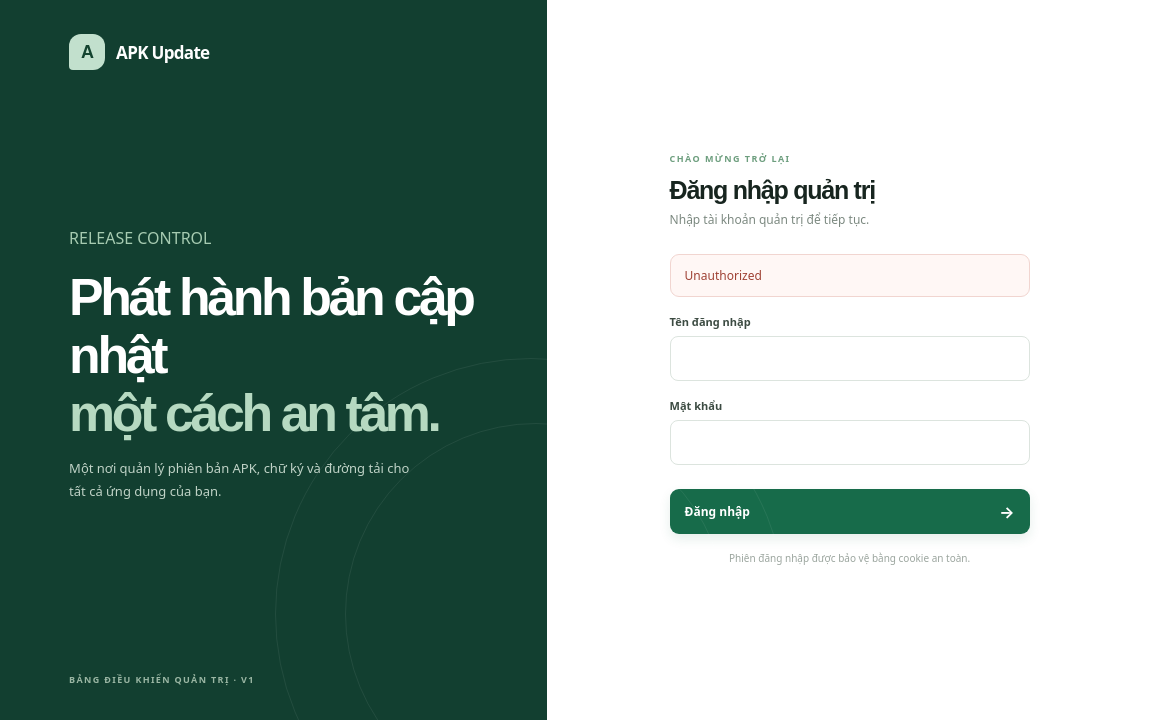
Test: APK administration console › shows a login error without leaving the form
This screenshot has width=1152, height=720.
Step 1. Type "admin" into the field labelled "Tên đăng nhập" → (850, 358), box [670,336,1030,381]
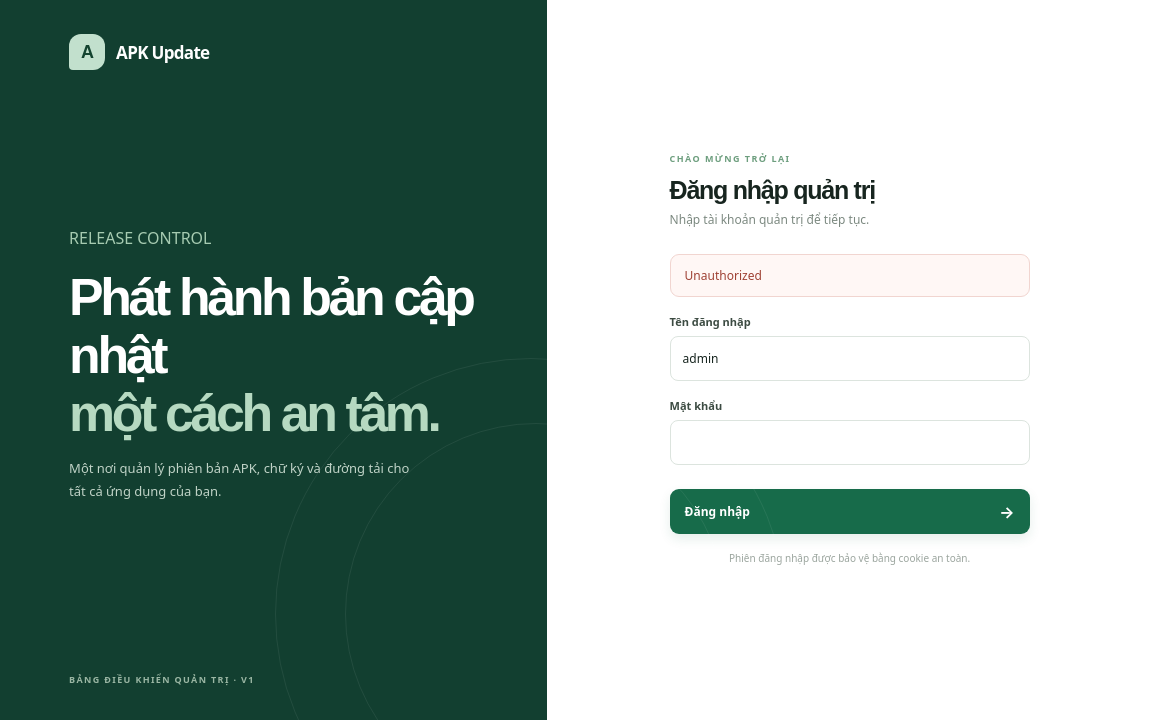
Step 2. Type "wrong-password" into the password field labelled "Mật khẩu" → (850, 442), box [670,420,1030,465]
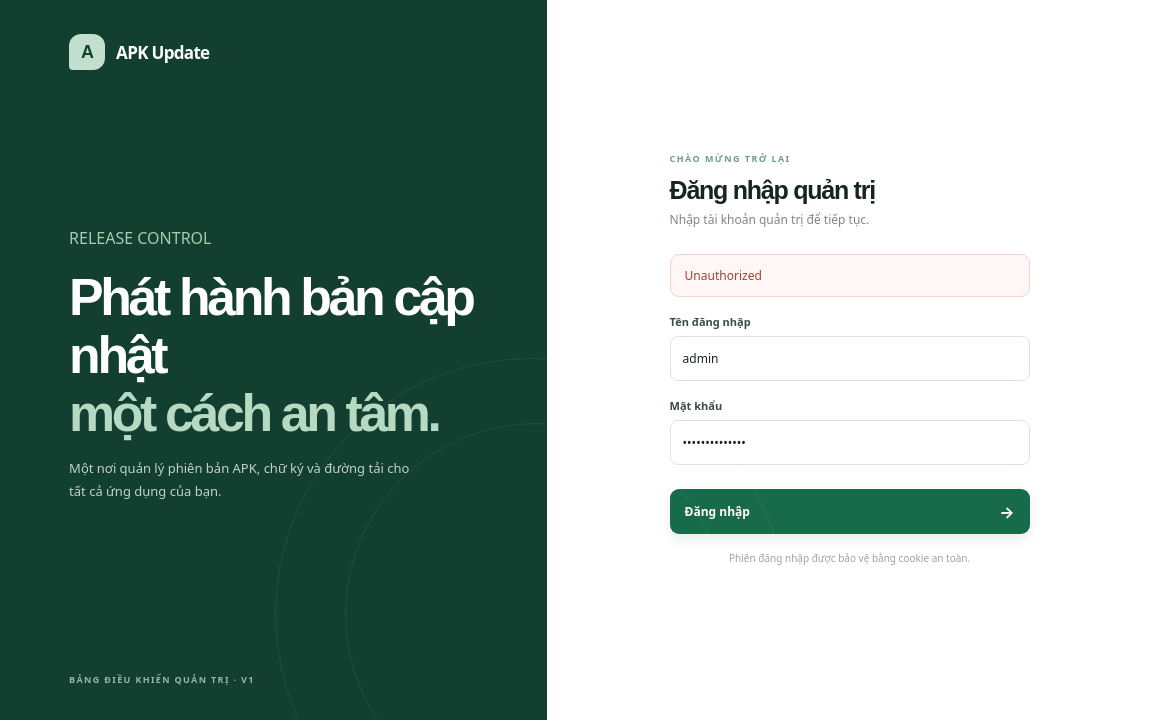
Step 3. Click the button "Đăng nhập →" → click(717, 512), box [670,489,1030,534]
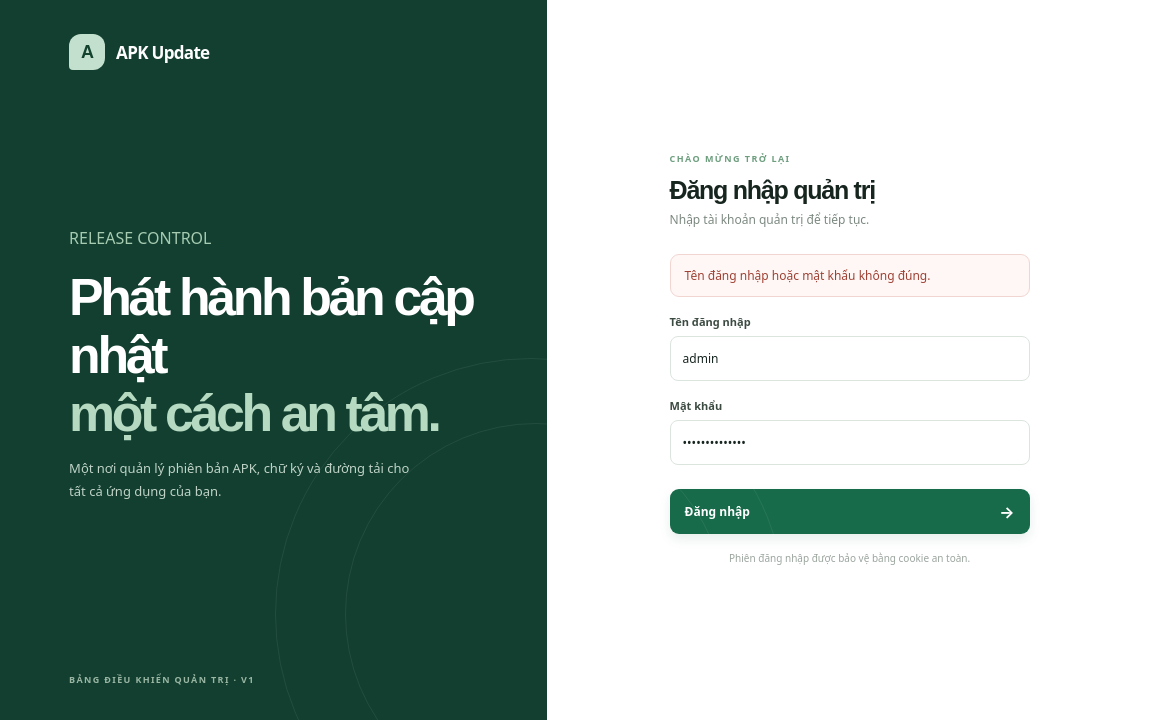
Result: the message reads "Tên đăng nhập hoặc mật khẩu không đúng." at [685,267,930,284]
